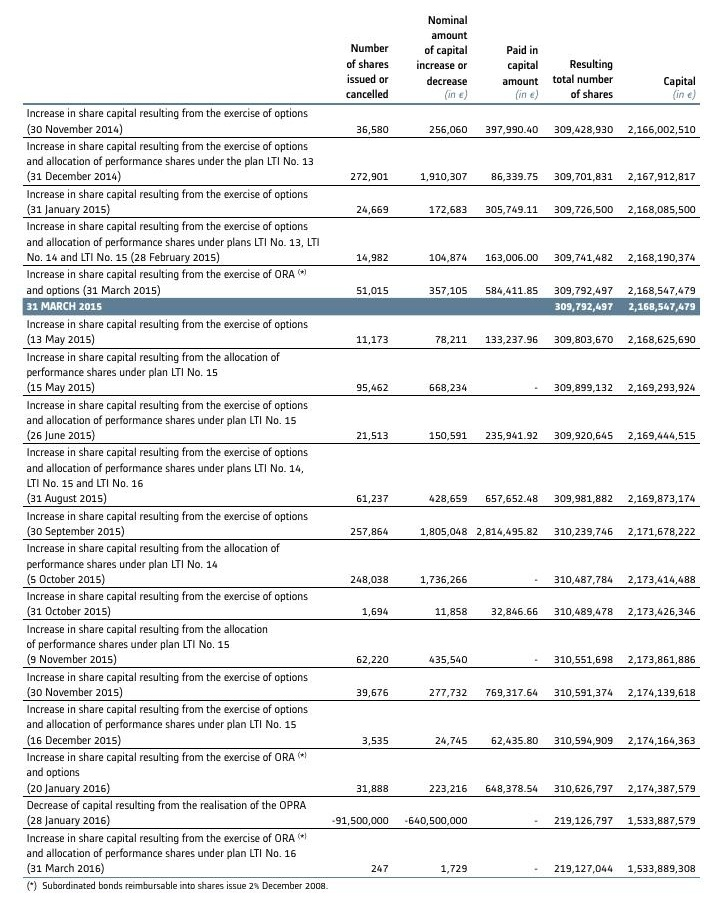table: (0, 0, 722, 912)
